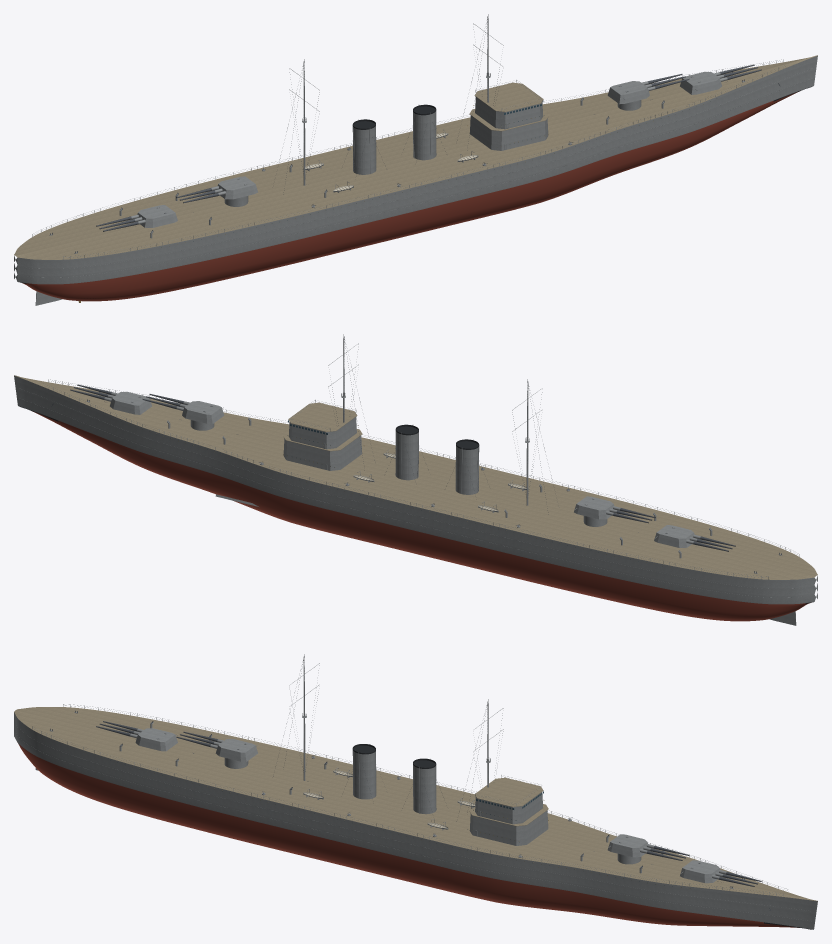
File: ocean_bb34.glb
The picture shows the model from 3 angles, top to bottom: view 1: azimuth 30°, elevation 25°; view 2: azimuth 150°, elevation 25°; view 3: azimuth 330°, elevation 25°; orthographic projection.
Parts seen in each view (by area): view 1: Sovetsky Soyuz battleship; view 2: Sovetsky Soyuz battleship; view 3: Sovetsky Soyuz battleship.
Boxes of the visible parts, x1,y1,x2,y2 form: Sovetsky Soyuz battleship: [14, 14, 817, 305]; Sovetsky Soyuz battleship: [14, 334, 817, 625]; Sovetsky Soyuz battleship: [14, 654, 817, 929].
Bounding box in the file's own units: 272 × 59.56 × 34.09.
8 materials, 2 textured.
